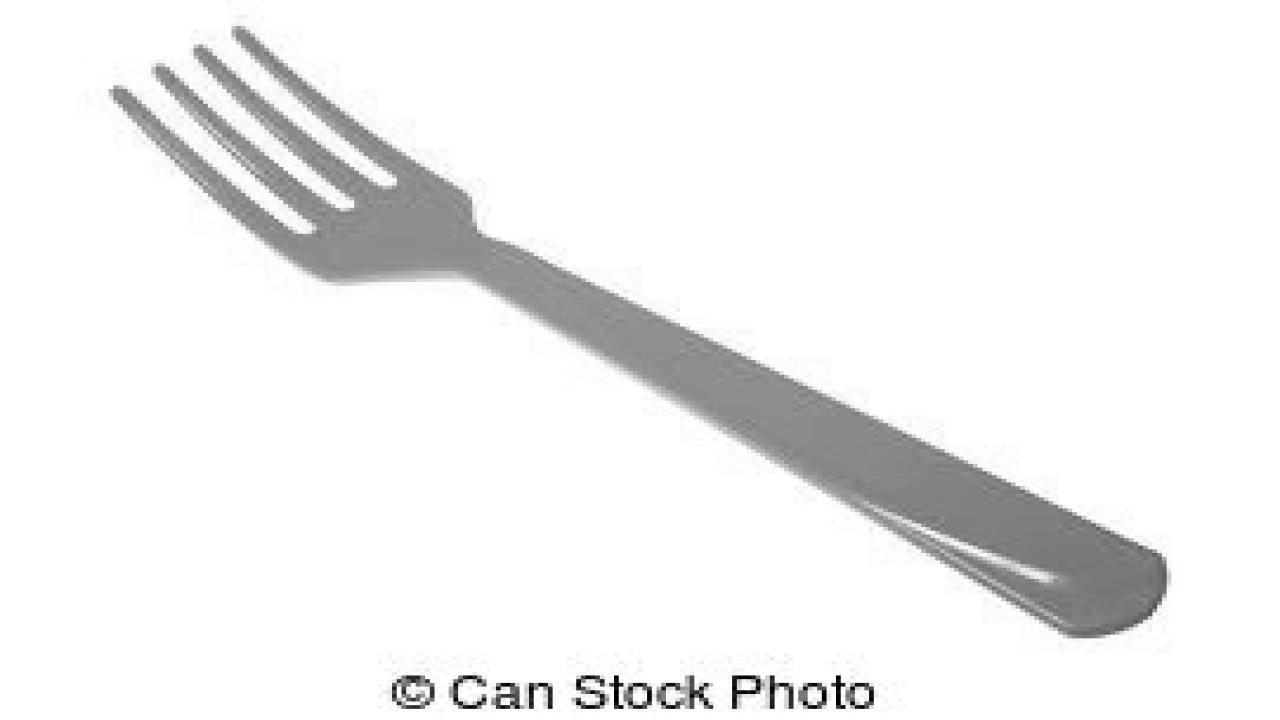fork: (104, 18, 1167, 638)
